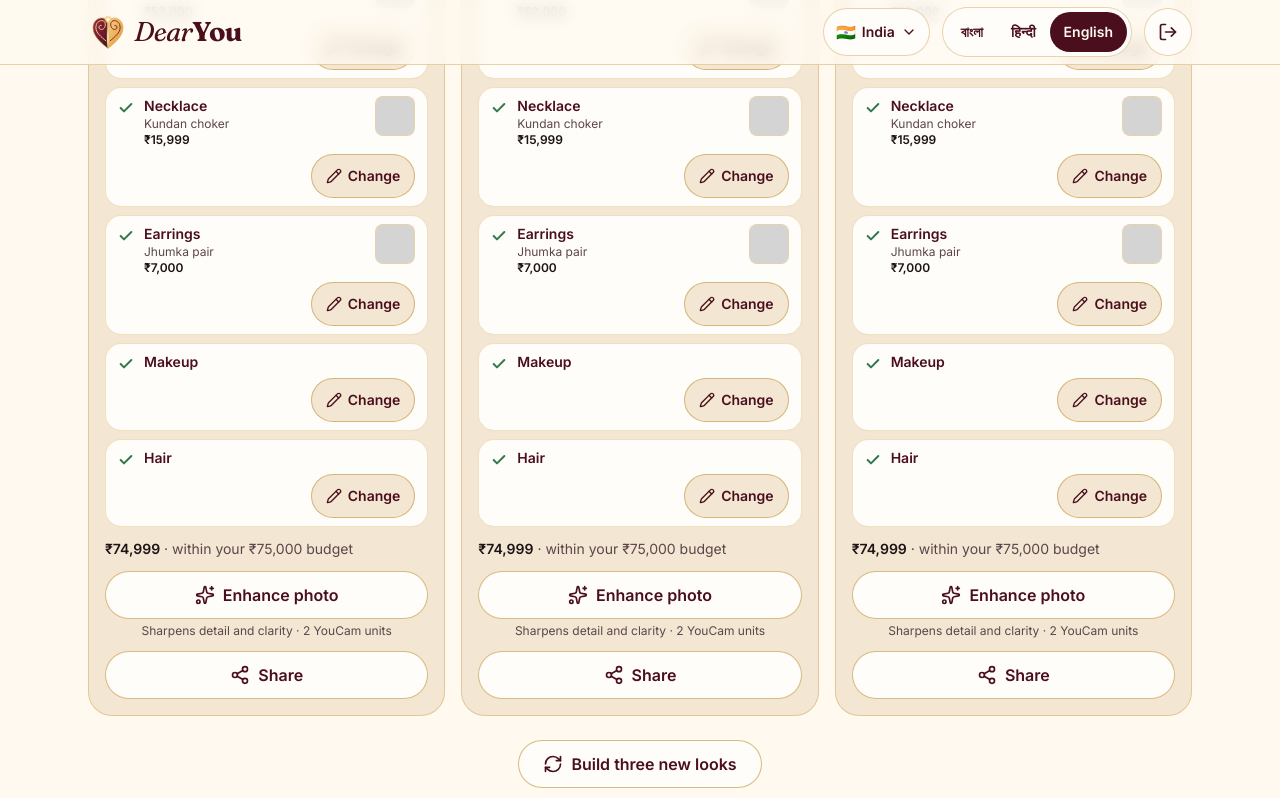
Test: look studio editor › makeup: picking a mood resets the lip, then a shade overrides it → PATCH {preset, lip}
The width and height of the screenshot is (1280, 798).
(page scrolled)
Click the 7th button "Change" at (363, 400), box [311,378,415,422]
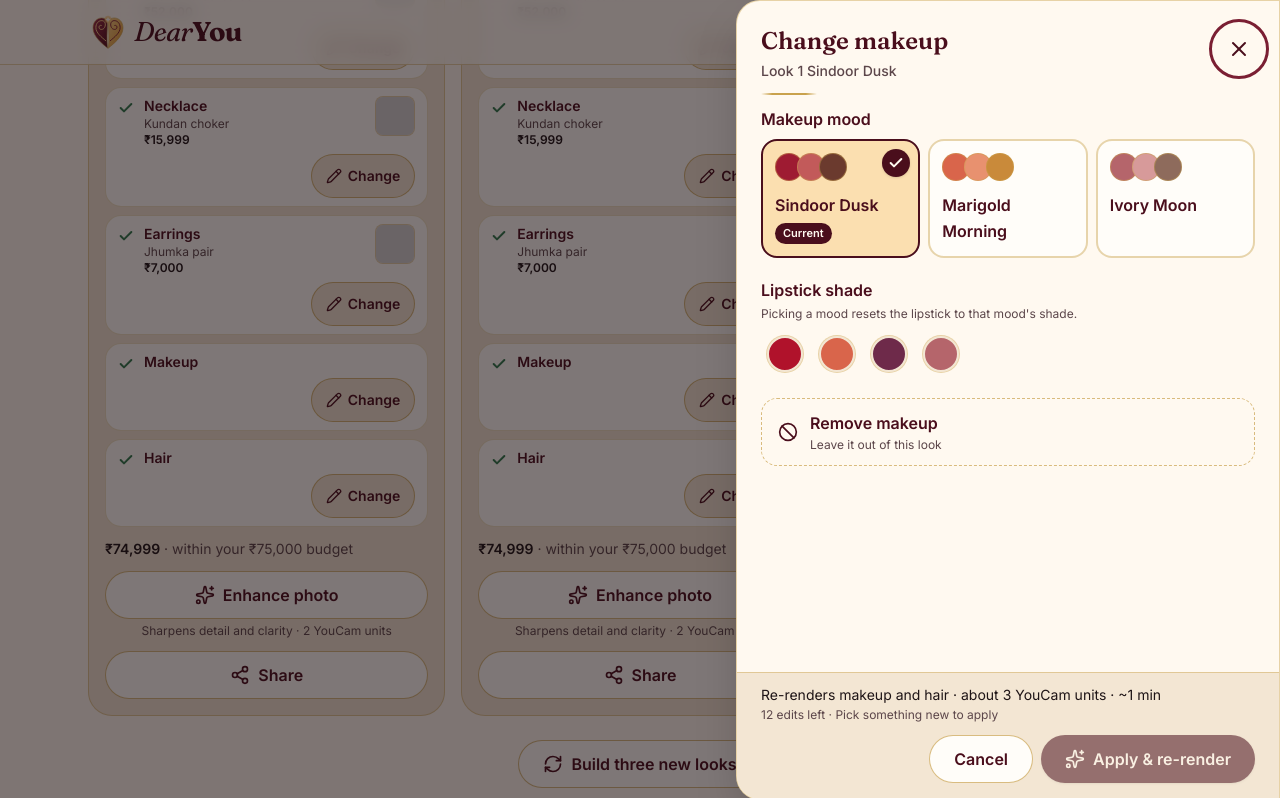
Click the 1st radio button labelled "Marigold Morning" at (1008, 199), box [928,139,1088,258]
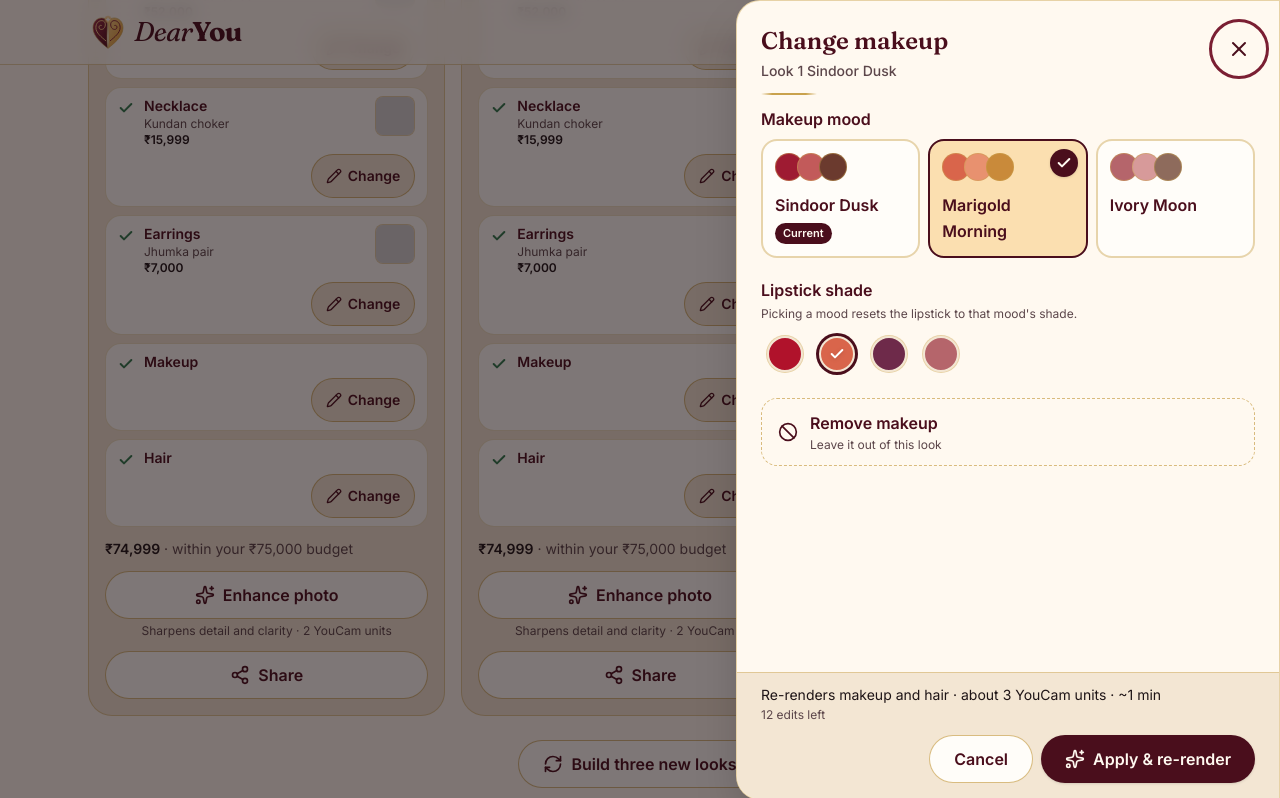
Click the radio button named "Plum" at (889, 354), box [871,336,907,372]
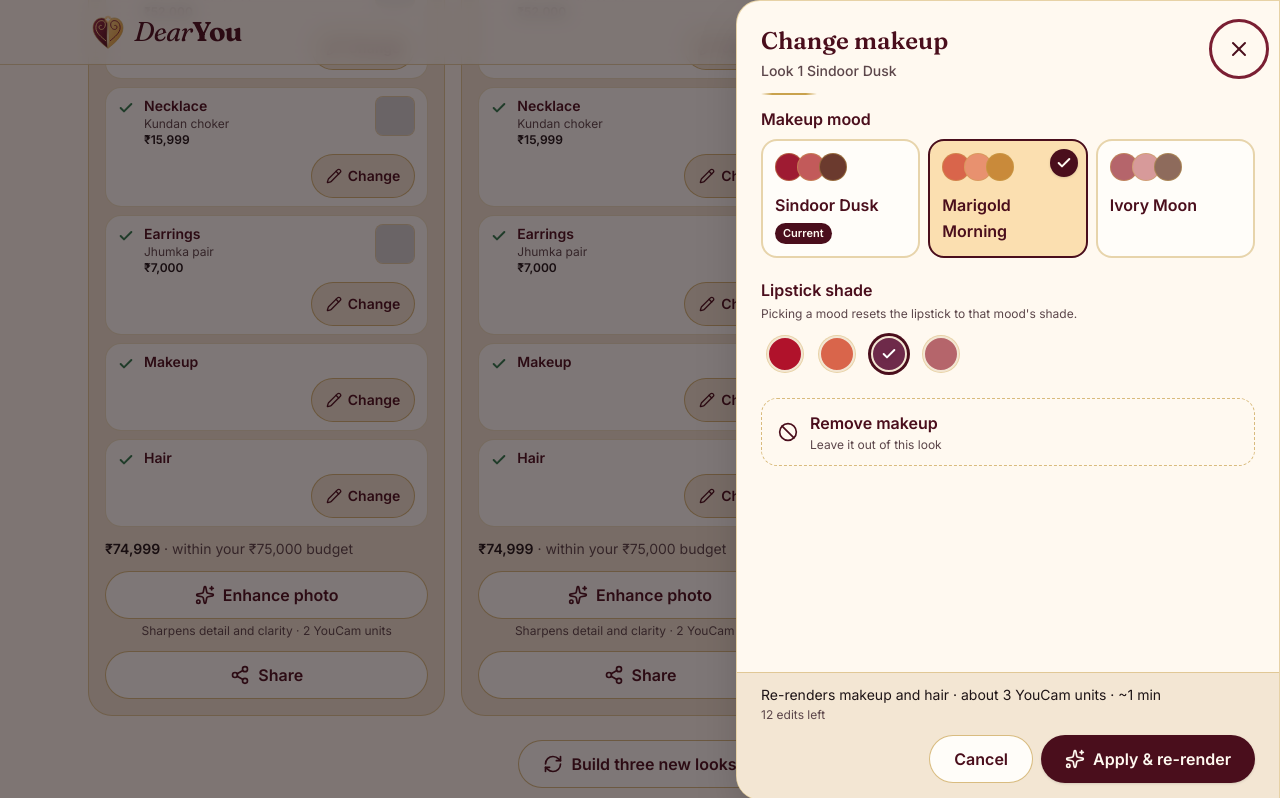
Click the button "Apply & re-render" at (1148, 759), box [1041,735,1255,783]
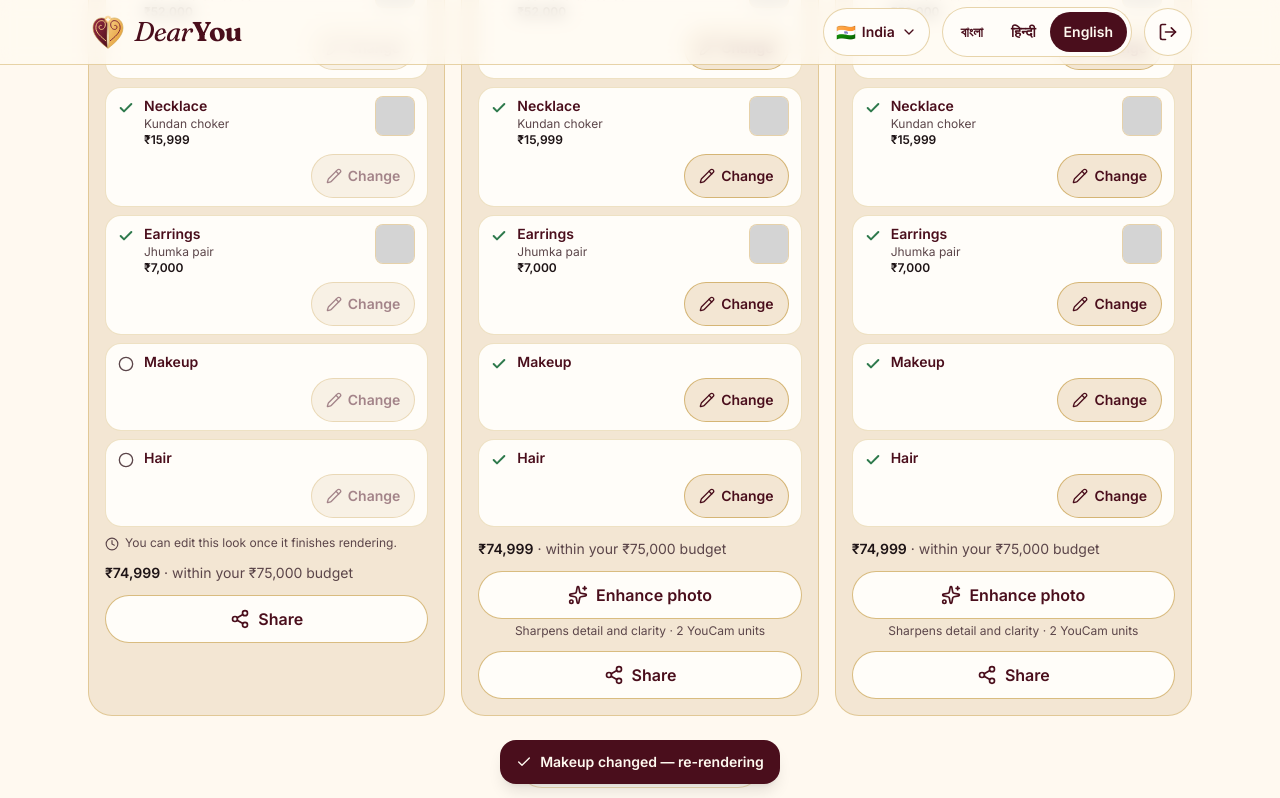
Expected: the text "Makeup changed — re-rendering" is shown, [500,740,780,784]
